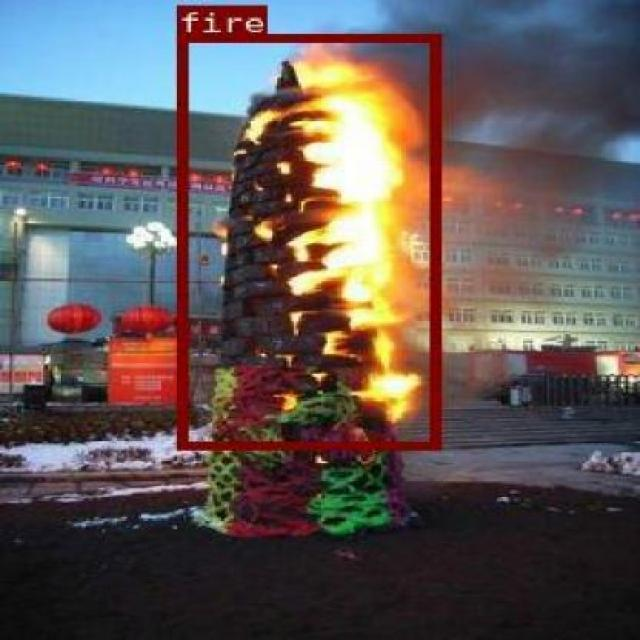Fire: (223, 50, 440, 450)
Smoke: (373, 0, 640, 322)
